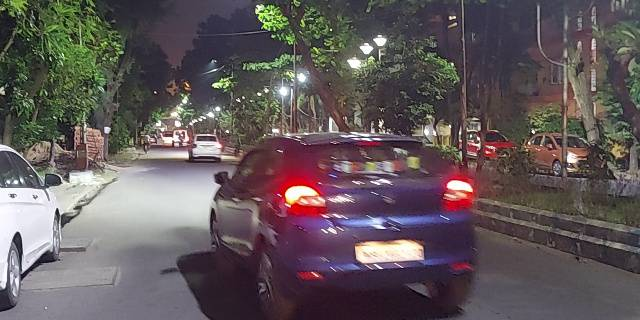Car: (209, 131, 474, 317), (188, 131, 221, 166)
